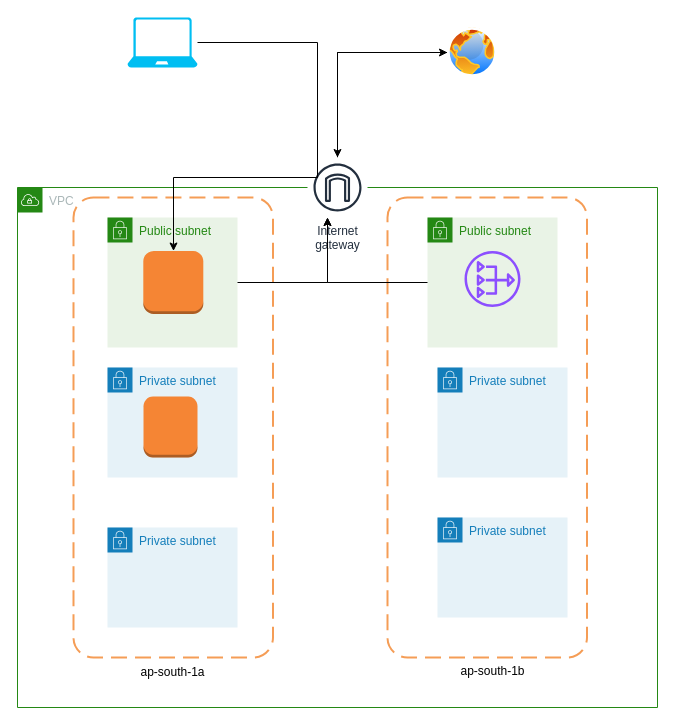
Some shapes in this 675 by 725 pixel diagram are drawn without their labels. The shapes that lost their labels are listed below. From the top down, each one's centre as x and y in pixels, then its label:
At pixel 472 52: "Google.com".
At pixel 172 282: "Jump Server".
At pixel 492 278: "NAT Gateway".
